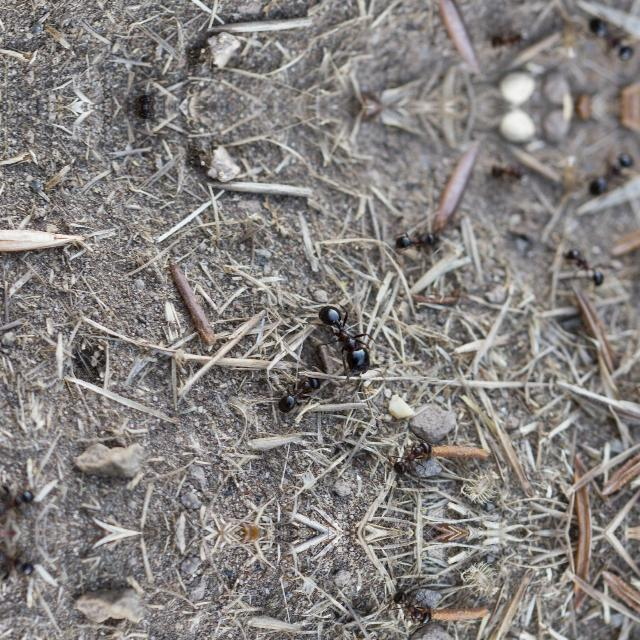Messor: (312, 297, 372, 375), (573, 140, 639, 207), (573, 5, 639, 72), (276, 370, 332, 416), (391, 218, 452, 258), (561, 241, 609, 291), (381, 441, 435, 484), (381, 582, 435, 624), (0, 474, 40, 520), (0, 546, 40, 590), (482, 30, 530, 59), (482, 154, 530, 182)
